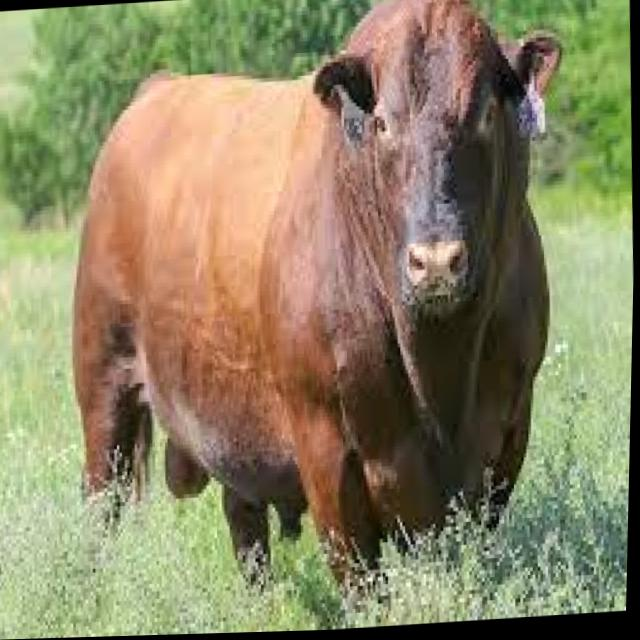cowFace: (291, 0, 601, 347)
